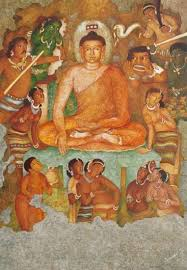Mara Vijay Painting: (1, 1, 186, 259), (7, 9, 180, 242), (30, 17, 157, 159)
